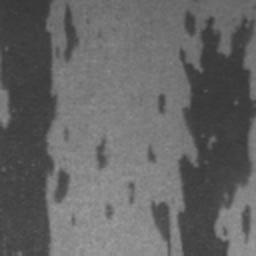Red iron sheet: (148, 10, 256, 256), (0, 0, 92, 256), (93, 136, 109, 169), (156, 92, 168, 115), (145, 142, 157, 165), (128, 180, 137, 205), (104, 201, 115, 220), (61, 127, 70, 142), (70, 212, 78, 228)
